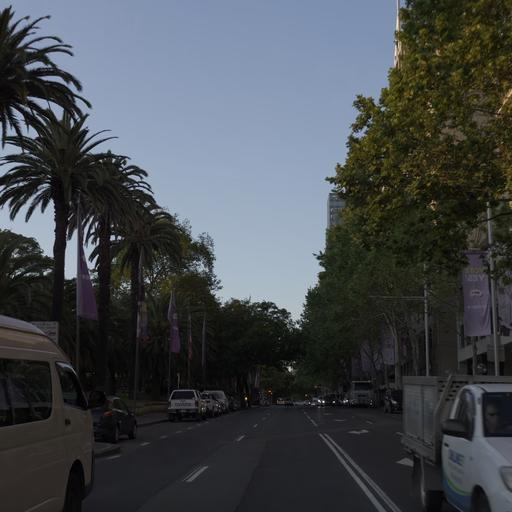Street light: (481, 194, 511, 375), (368, 291, 430, 375), (370, 310, 400, 386)
